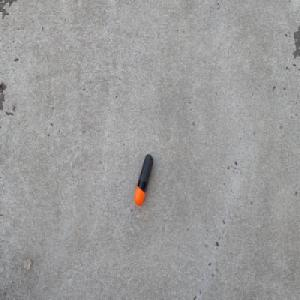PlasticPart: (133, 153, 153, 207)
